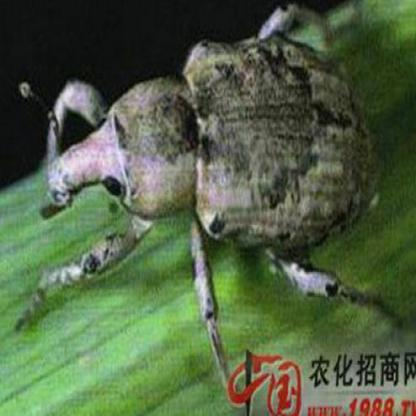rice-bug: (47, 29, 381, 279)
